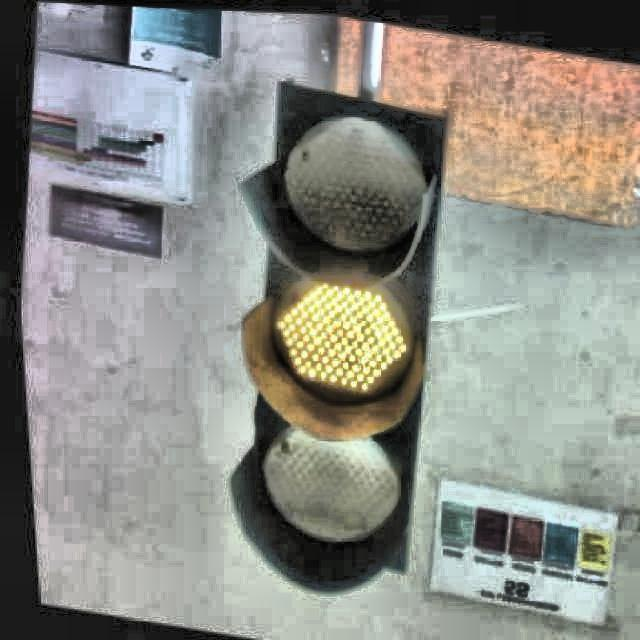yellow: (254, 89, 414, 573)
